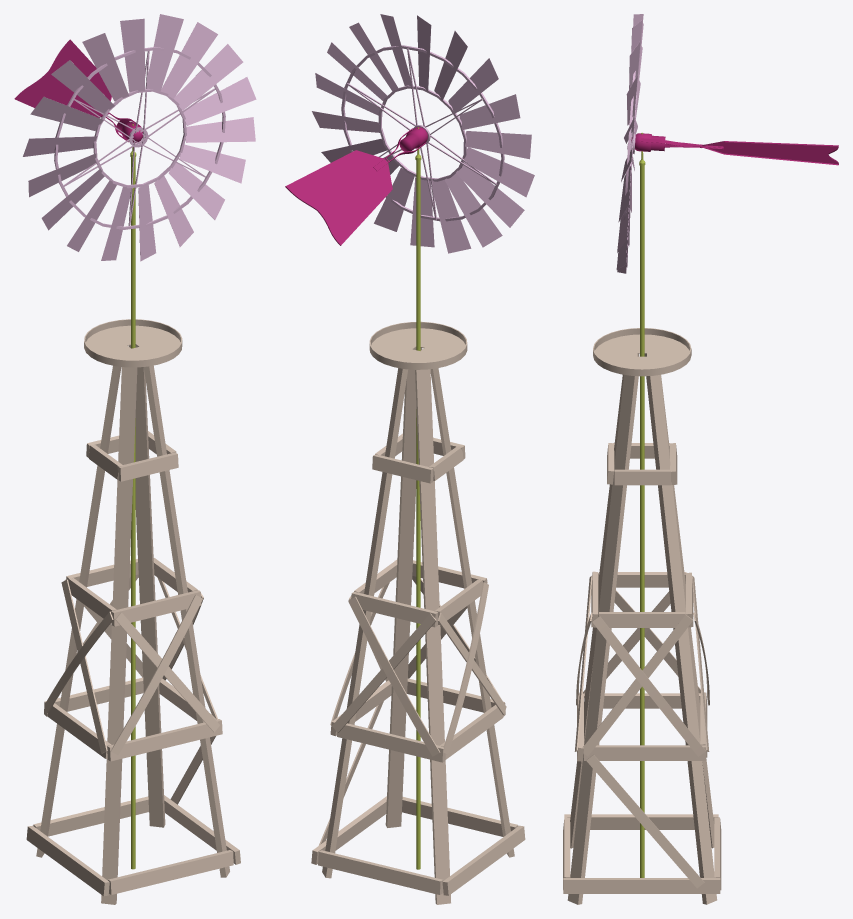
The model's file is windmill.fbx.
3 views of the same model, side by side, from view 1: azimuth 30°, elevation 25°; view 2: azimuth 150°, elevation 25°; view 3: azimuth 270°, elevation 25° (orthographic).
Parts seen in each view (by area): view 1: windmill:base, polySurface9, windmill:shaft; view 2: windmill:base, polySurface9, windmill:shaft; view 3: windmill:base, polySurface9, windmill:shaft.
Part boxes in pixels (left/top/right/bottom): windmill:base: left=26, top=319, right=240, bottom=904; polySurface9: left=14, top=14, right=256, bottom=261; windmill:shaft: left=130, top=124, right=136, bottom=869; windmill:base: left=311, top=321, right=525, bottom=904; polySurface9: left=285, top=14, right=534, bottom=253; windmill:shaft: left=415, top=127, right=421, bottom=869; windmill:base: left=563, top=328, right=721, bottom=904; polySurface9: left=616, top=14, right=838, bottom=273; windmill:shaft: left=639, top=132, right=645, bottom=877.
Size of the model in its own units: 225 by 815 by 239.
